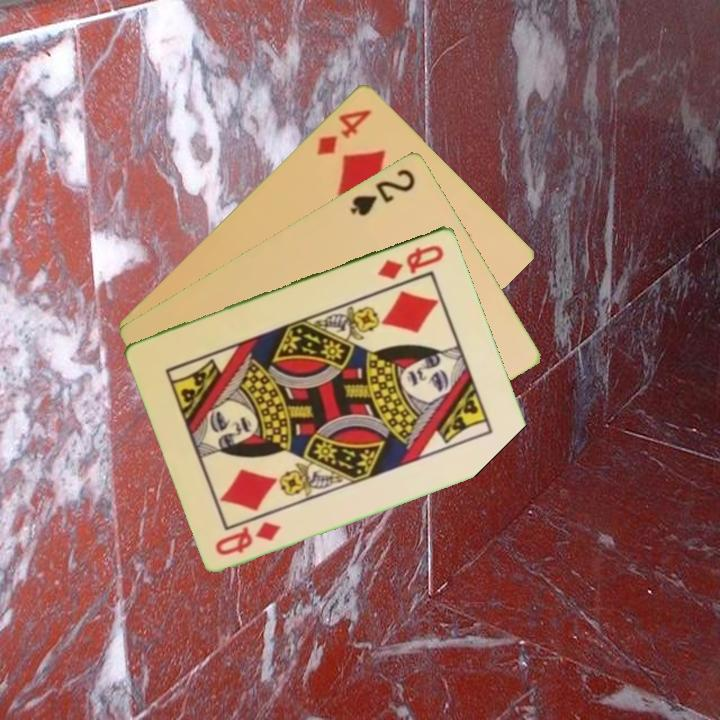2s: (346, 164, 419, 219)
4d: (313, 105, 375, 158)
Qd: (374, 241, 447, 282), (212, 517, 284, 558)
